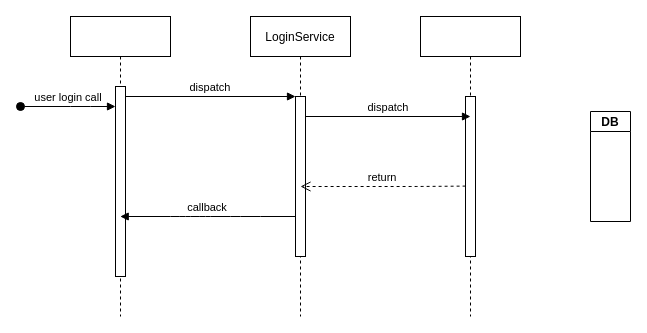
The diagram is 647 pixels wide and 333 high, and some of its shapes have lost their labels. Each missing label, with the box of its shape:
LoginController: (70, 16, 170, 316)
LoginDAOImpl: (420, 16, 520, 316)
